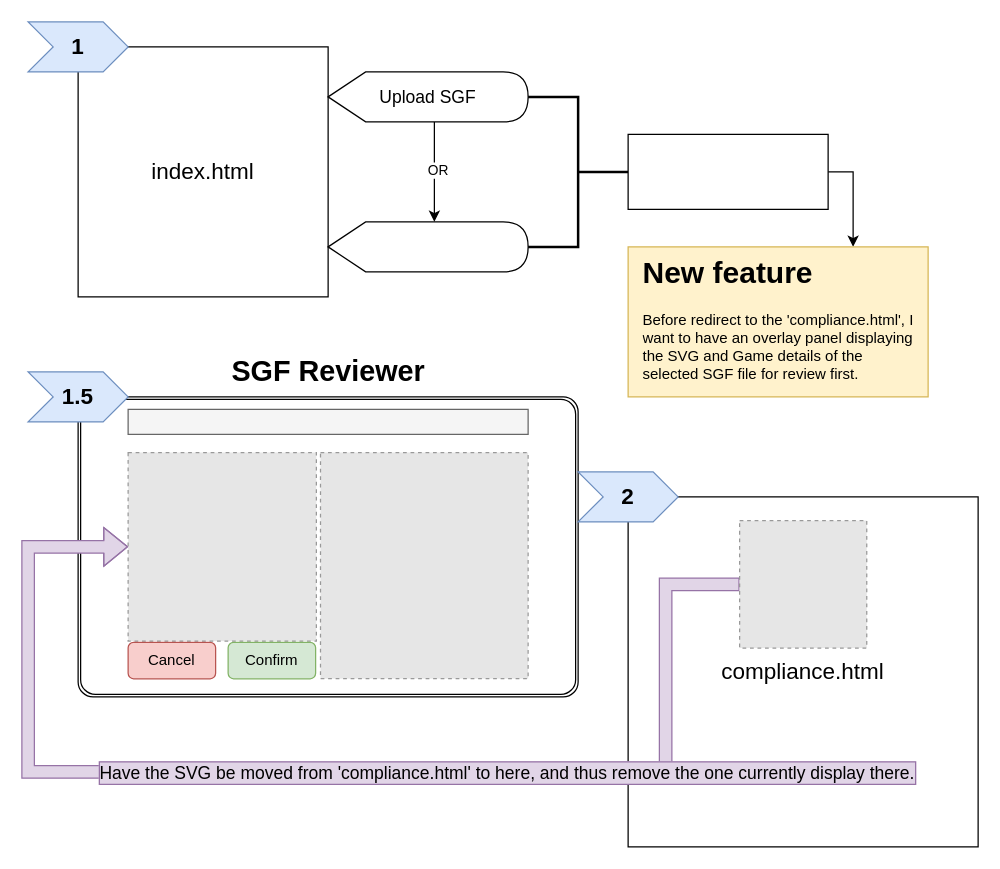
Some shapes in this 1000 by 869 pixel diagram are drawn without their labels. Grey dashed boxes stand in for pictures. The centre of each missing label's shape, as x and y in pixels:
2ipk-gokifu-20160309-AlphaGo-Lee_Sedol.sgf: the point at 327,421
By the end we will have a 'working' SGF file ready to work within our webapp: the point at 727,171
Fetch and have SGF: the point at 427,246
